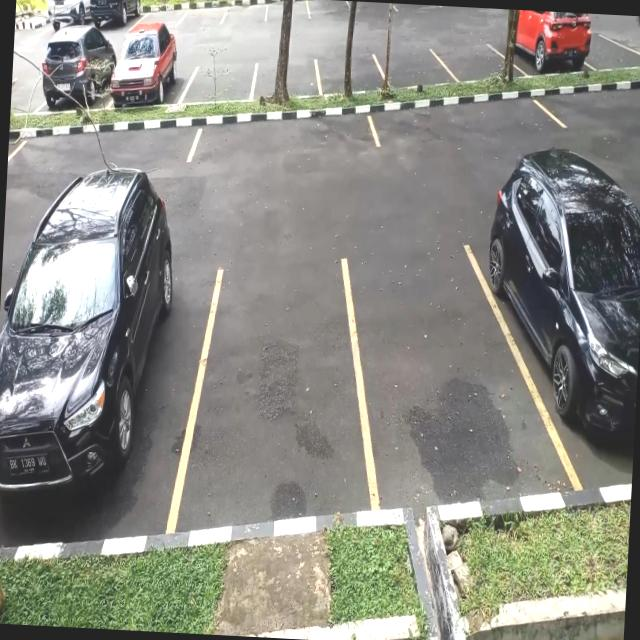car: (0, 187, 204, 544), (469, 167, 640, 489), (38, 31, 116, 114), (107, 34, 189, 110), (514, 10, 595, 78)
free: (344, 248, 564, 520), (182, 258, 376, 534), (367, 93, 557, 157), (10, 116, 203, 176), (192, 106, 378, 168), (546, 76, 640, 136), (184, 59, 258, 105), (316, 52, 386, 98), (254, 56, 322, 102), (381, 47, 451, 91), (443, 42, 510, 86), (586, 32, 640, 74), (11, 70, 44, 118), (180, 0, 225, 28), (222, 0, 267, 26), (265, 0, 309, 24), (144, 0, 183, 25), (307, 0, 352, 19), (350, 2, 393, 20)
